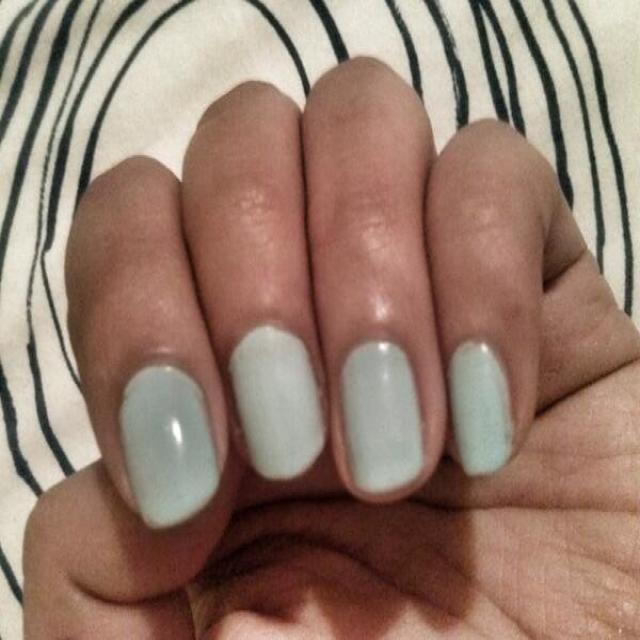Fingernail: (119, 367, 220, 528), (229, 327, 329, 480), (341, 342, 424, 492), (447, 339, 515, 477)
